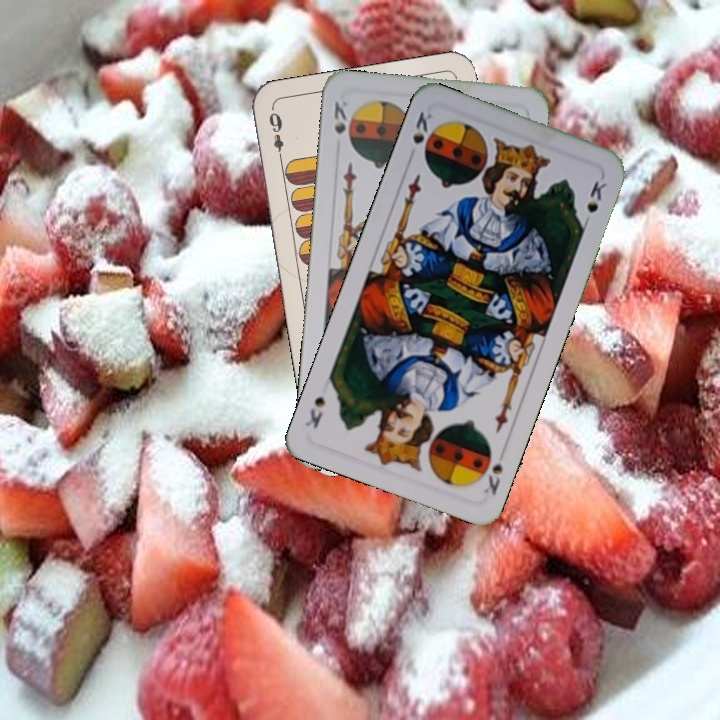E9: (264, 105, 286, 164)
SK: (474, 443, 506, 498), (408, 107, 435, 147), (330, 95, 351, 137)
